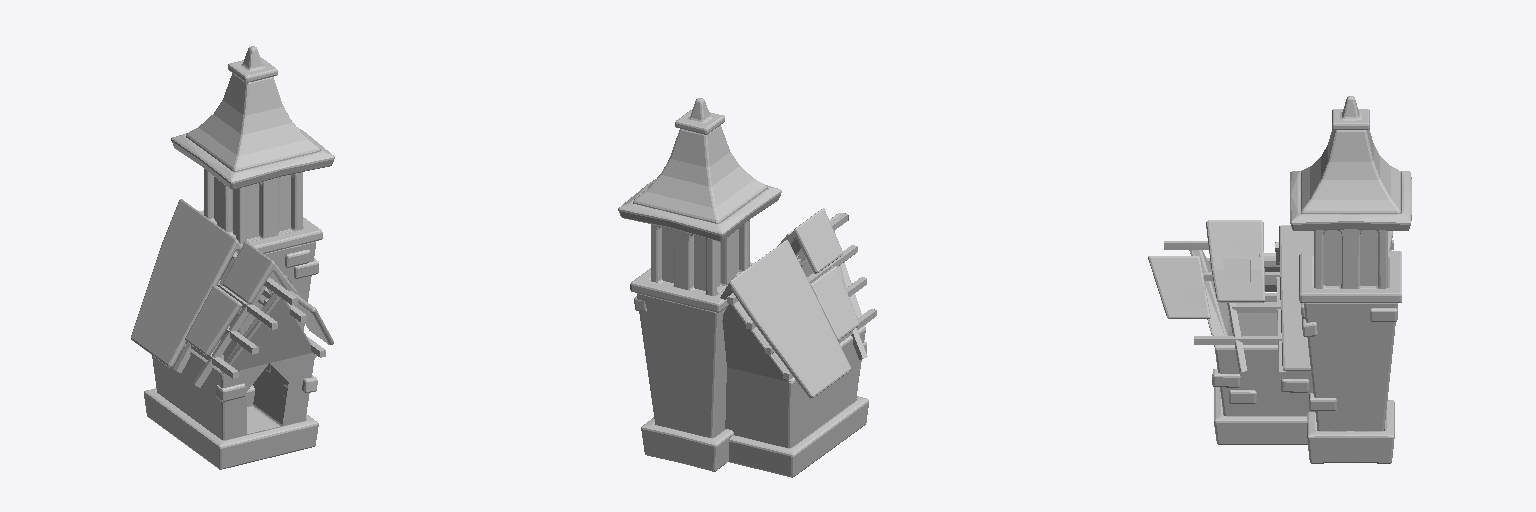
File: SpookyHouseHigh.obj
3 views of the same model, side by side, from view 1: azimuth 30°, elevation 25°; view 2: azimuth 150°, elevation 25°; view 3: azimuth 270°, elevation 25° (orthographic).
Visible parts, largest first — view 1: Plane.041, Plane.032, Plane.031, Plane.053, Plane.049, Plane.064, Plane.050, Plane.051, Plane.033; view 2: Plane.032, Plane.041, Plane.031, Plane.053, Plane.055, Plane.064, Plane.049, Plane.051, Plane.050, Plane.033; view 3: Plane.032, Plane.041, Plane.031, Plane.055, Plane.049, Plane.064, Plane.053, Plane.051, Plane.050, Plane.033, Plane.066, Plane.065 (+1 smaller).
Part boxes in pixels (x1,y1,x2,y2): Plane.041: (131, 199, 333, 367); Plane.032: (186, 73, 319, 360); Plane.031: (152, 293, 314, 439); Plane.053: (144, 388, 318, 469); Plane.049: (173, 252, 325, 387); Plane.064: (171, 127, 334, 189); Plane.050: (214, 175, 290, 238); Plane.051: (199, 210, 322, 253); Plane.033: (228, 46, 277, 82); Plane.032: (633, 125, 766, 437); Plane.041: (720, 208, 858, 398); Plane.031: (723, 231, 865, 447); Plane.053: (728, 396, 868, 477); Plane.055: (641, 417, 733, 471); Plane.064: (618, 179, 781, 241); Plane.049: (722, 213, 876, 379); Plane.051: (630, 262, 753, 312); Plane.050: (662, 226, 738, 290); Plane.033: (675, 98, 724, 134); Plane.032: (1301, 129, 1400, 430); Plane.041: (1148, 220, 1392, 370); Plane.031: (1189, 250, 1391, 415); Plane.055: (1307, 400, 1394, 463); Plane.049: (1164, 240, 1393, 372); Plane.064: (1290, 171, 1411, 230); Plane.053: (1214, 387, 1307, 444); Plane.051: (1299, 251, 1401, 302); Plane.050: (1324, 230, 1377, 285); Plane.033: (1332, 96, 1369, 129); Plane.066: (1222, 259, 1250, 281); Plane.065: (1231, 235, 1259, 256).
Bounding box in the file's own units: 4.31 × 8.43 × 5.76.